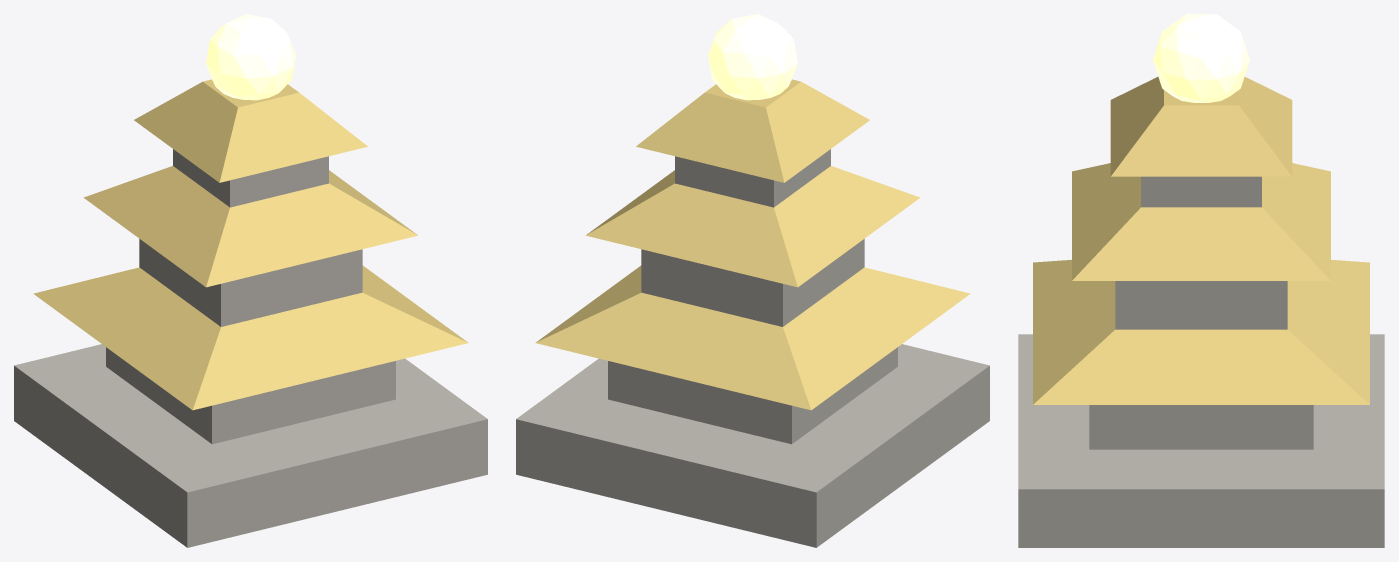
The picture shows the model from 3 angles, left to right: view 1: azimuth 30°, elevation 25°; view 2: azimuth 150°, elevation 25°; view 3: azimuth 270°, elevation 25°; orthographic projection. The views are drawn at different scales.
Parts seen in each view (by area): view 1: floor, roof0, roof1, roof2, wall0, wall1, orb, wall2; view 2: floor, roof0, roof1, roof2, wall0, wall1, orb, wall2; view 3: floor, roof0, roof1, roof2, wall0, wall1, orb, wall2.
Boxes of the visible parts, left/top/right/bottom form: floor: left=14, top=344, right=487, bottom=547; roof0: left=33, top=265, right=468, bottom=410; roof1: left=83, top=166, right=417, bottom=287; roof2: left=134, top=79, right=367, bottom=182; wall0: left=106, top=347, right=395, bottom=444; wall1: left=139, top=239, right=362, bottom=326; orb: left=206, top=14, right=295, bottom=100; wall2: left=173, top=149, right=328, bottom=207; floor: left=516, top=344, right=989, bottom=547; roof0: left=535, top=265, right=970, bottom=410; roof1: left=586, top=166, right=920, bottom=287; roof2: left=636, top=79, right=869, bottom=182; wall0: left=608, top=347, right=897, bottom=444; wall1: left=641, top=239, right=864, bottom=326; orb: left=708, top=14, right=797, bottom=100; wall2: left=675, top=149, right=830, bottom=207; floor: left=1018, top=334, right=1384, bottom=547; roof0: left=1033, top=259, right=1369, bottom=404; roof1: left=1072, top=163, right=1330, bottom=280; roof2: left=1110, top=77, right=1292, bottom=176; wall0: left=1089, top=405, right=1313, bottom=449; wall1: left=1115, top=281, right=1287, bottom=329; orb: left=1153, top=14, right=1249, bottom=102; wall2: left=1141, top=176, right=1261, bottom=207.
Bounding box in the file's own units: 3.4 × 4.65 × 3.4.
